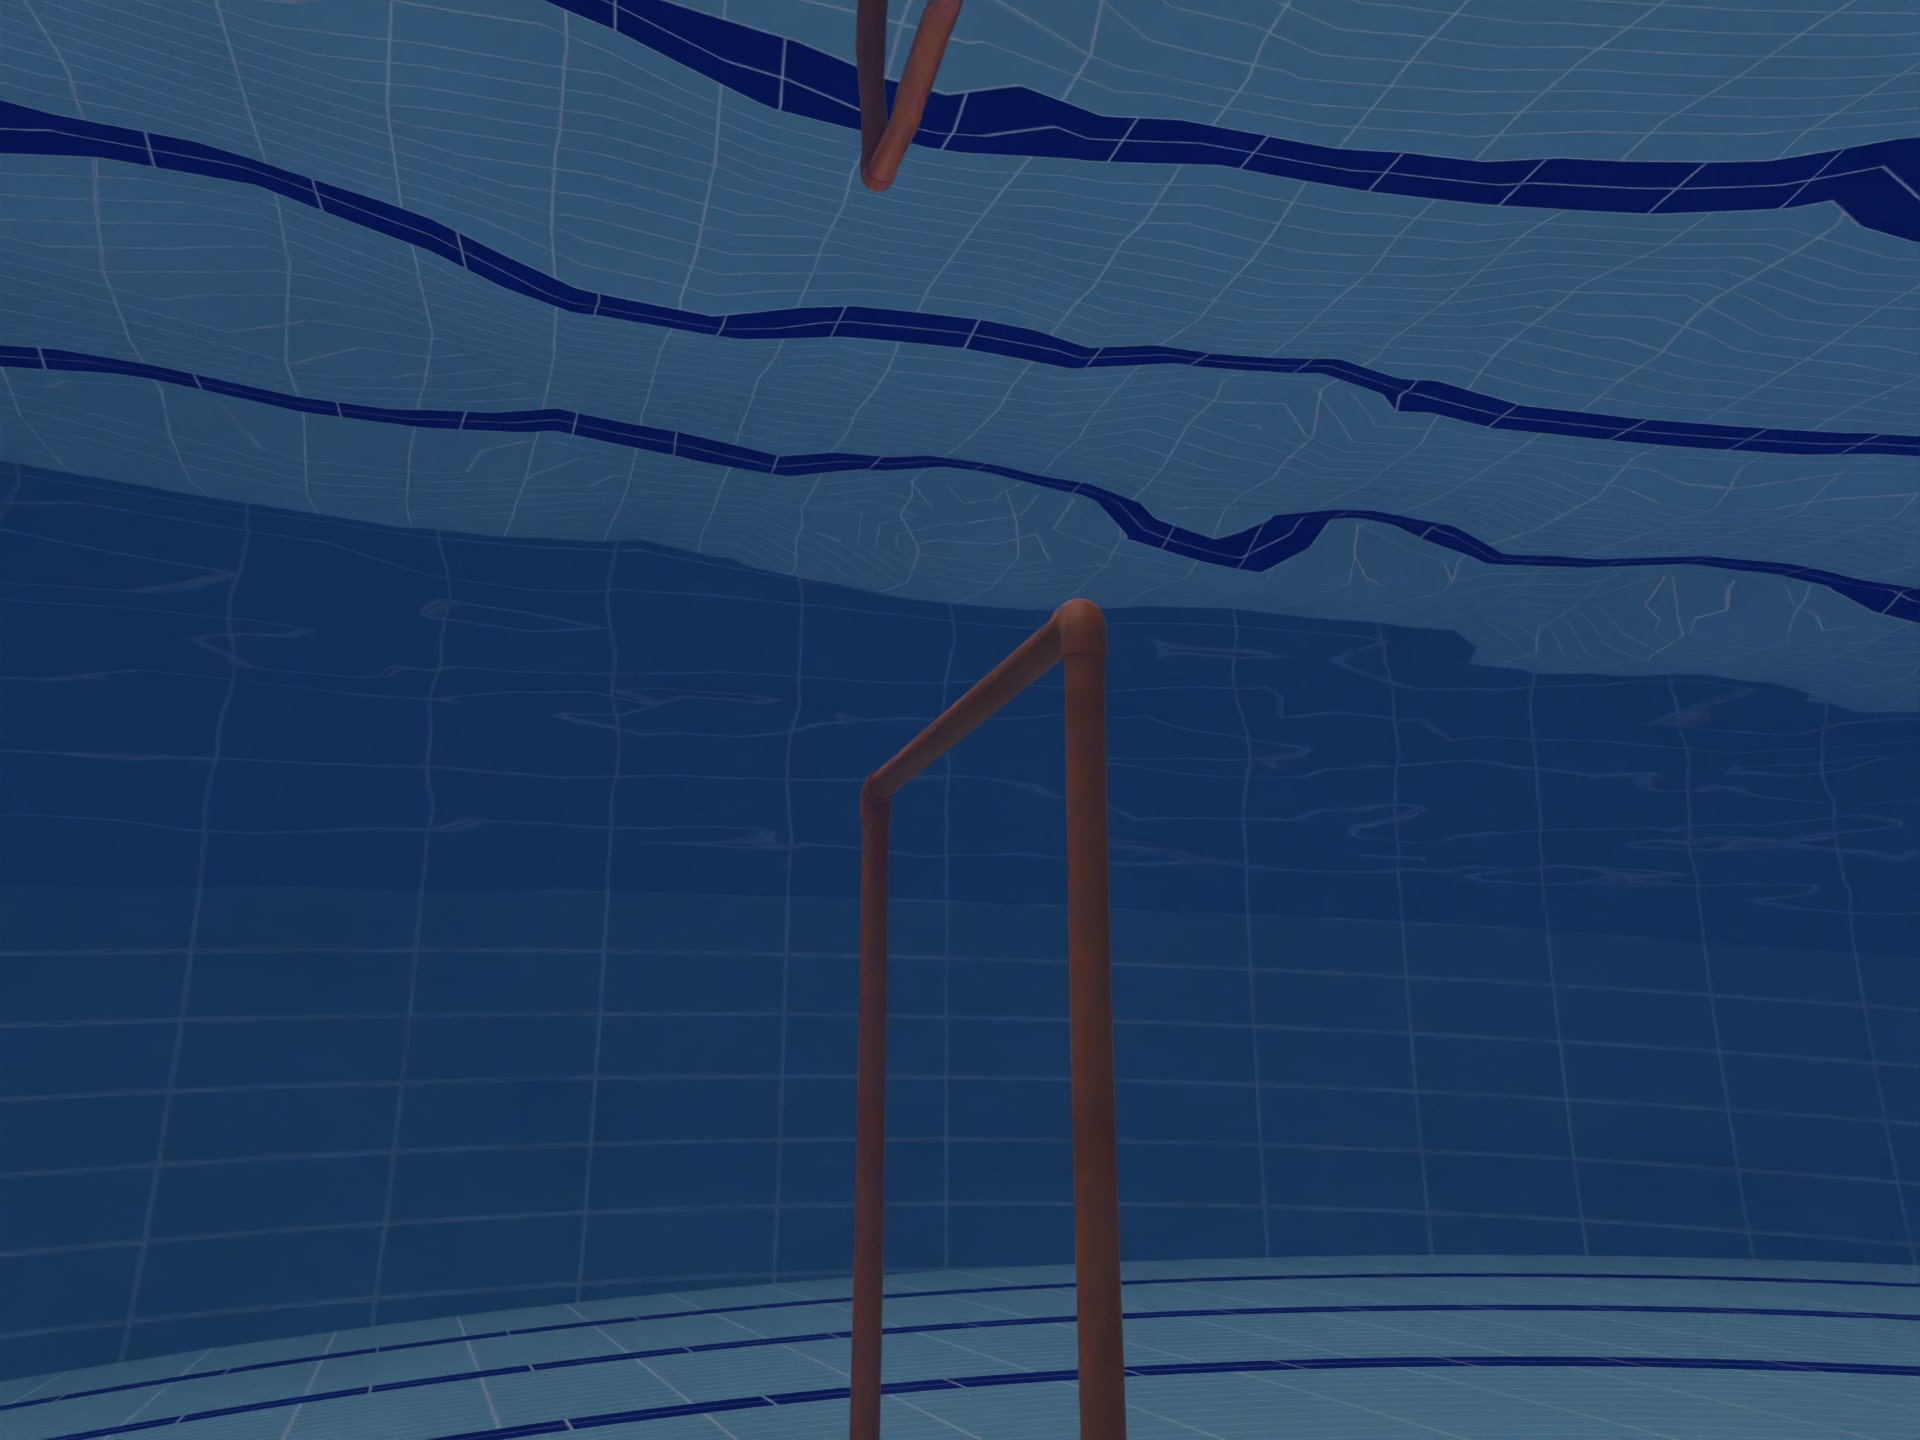gate: (766, 588, 1178, 1440)
